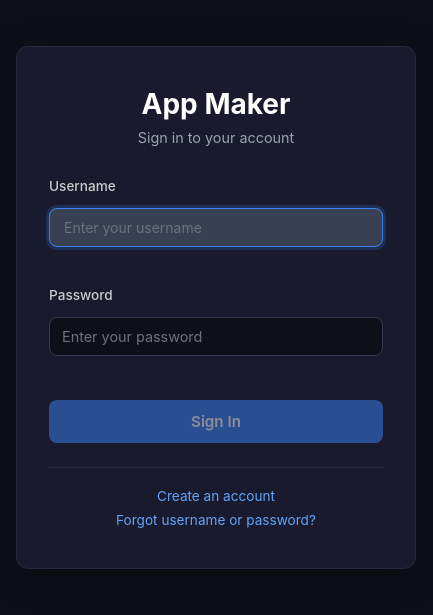
Test: LoginView › shows error on failed login
The image size is (433, 615).
Type "testuser" into the field with test id "login-username" at (216, 227), box x1=49 y1=208 x2=383 y2=246
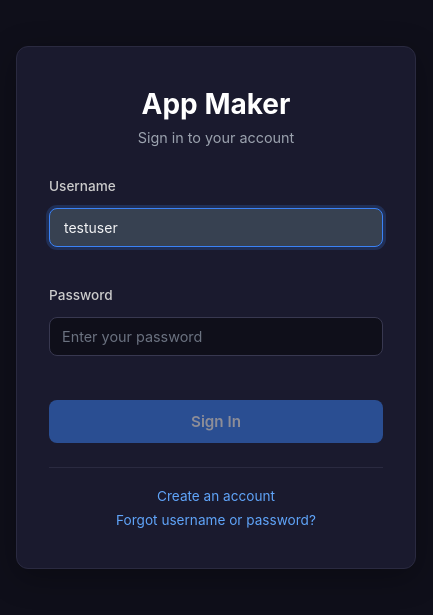
Type "wrong" into the password field with test id "login-password" at (216, 336), box x1=49 y1=316 x2=383 y2=356
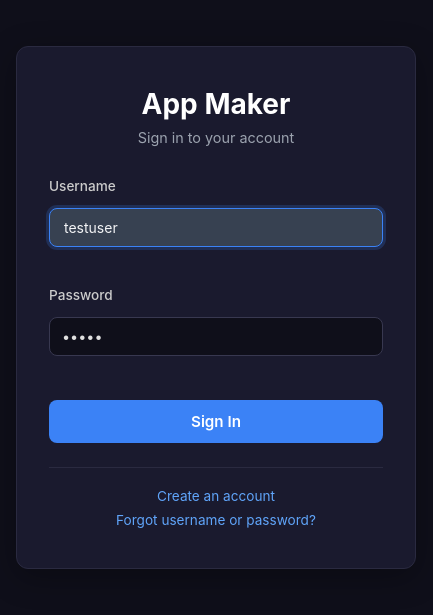
Click the button with test id "login-submit" at (216, 421), box x1=49 y1=400 x2=383 y2=442
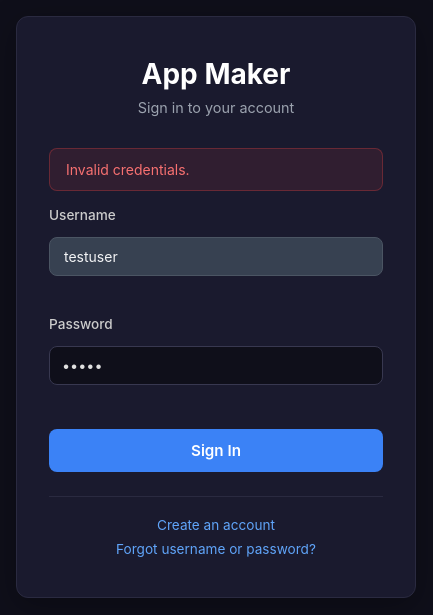
Check: the message "Invalid credentials." is shown, box x1=49 y1=148 x2=383 y2=191
